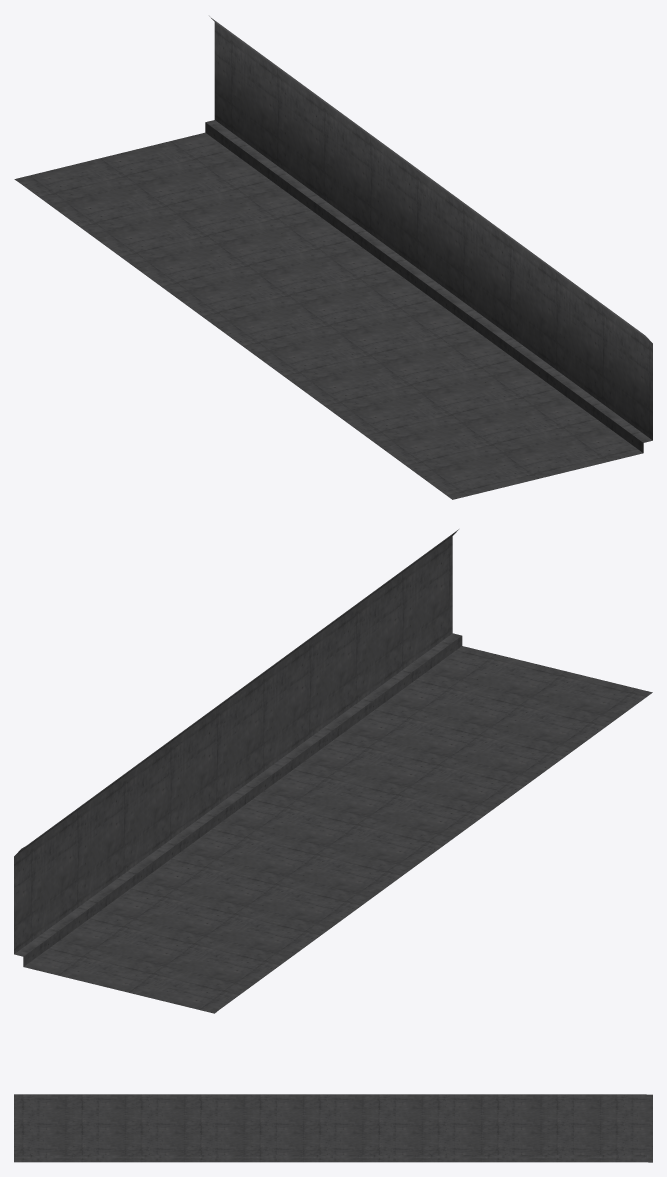
The model's file is KIN_CHIKA_AMB_LEFT.glb.
3 renders of one model, top to bottom at view 1: azimuth 30°, elevation 25°; view 2: azimuth 150°, elevation 25°; view 3: azimuth 270°, elevation 25°, orthographic. The views are drawn at different scales.
Parts seen in each view (by area): view 1: obj1; view 2: obj1; view 3: obj1.
Boxes of the visible parts, bbox=[...] form: obj1: bbox=[14, 16, 652, 499]; obj1: bbox=[14, 529, 652, 1013]; obj1: bbox=[14, 1094, 652, 1162].
Size of the model in its own units: 26.7 by 15 by 101.
1 material, 1 textured.
